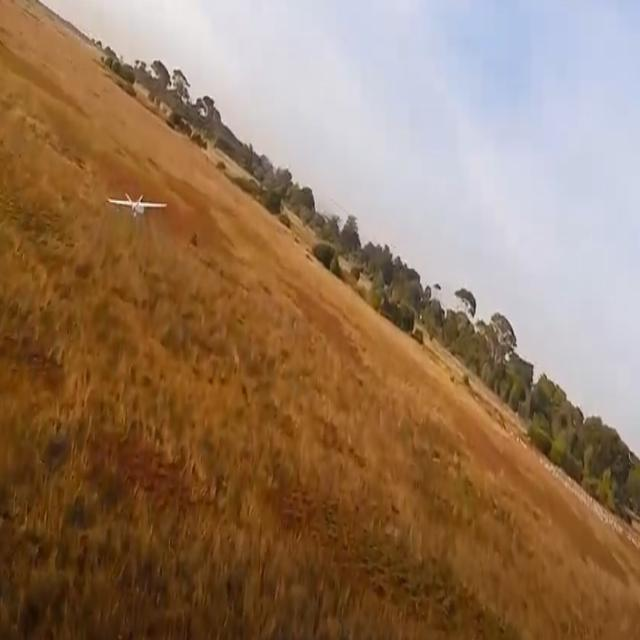iha: (101, 189, 161, 221)
